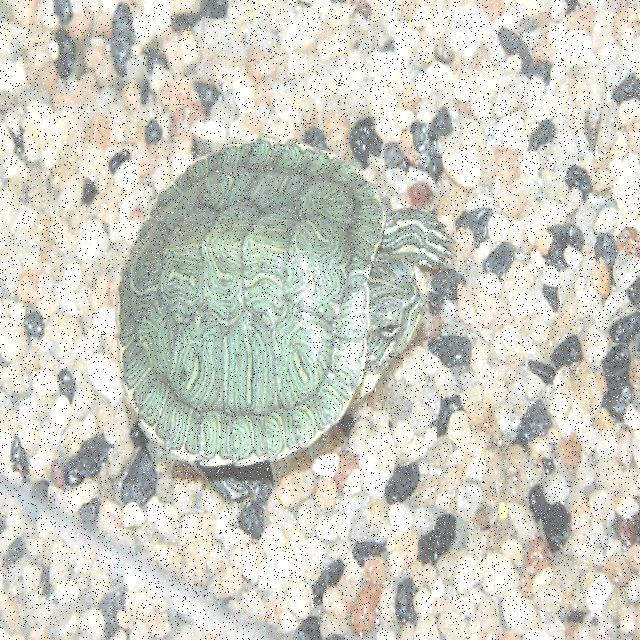tortoise: (113, 142, 453, 474)
